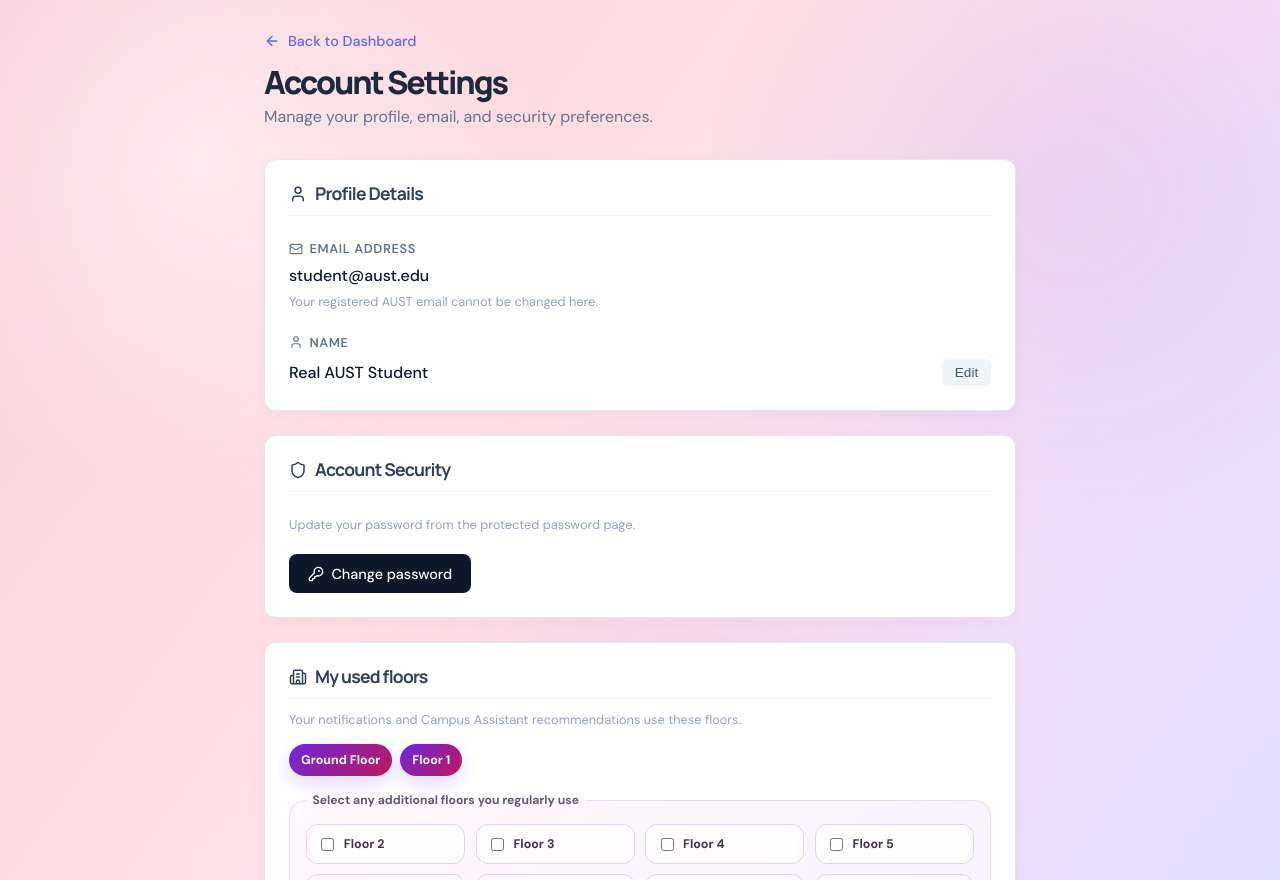
Test: Profile integration › persists a name edit through the API
Expected: the text "Real AUST Student" is shown, [289, 362, 428, 383]
Click the button "Edit" at (966, 373), box [942, 359, 991, 386]
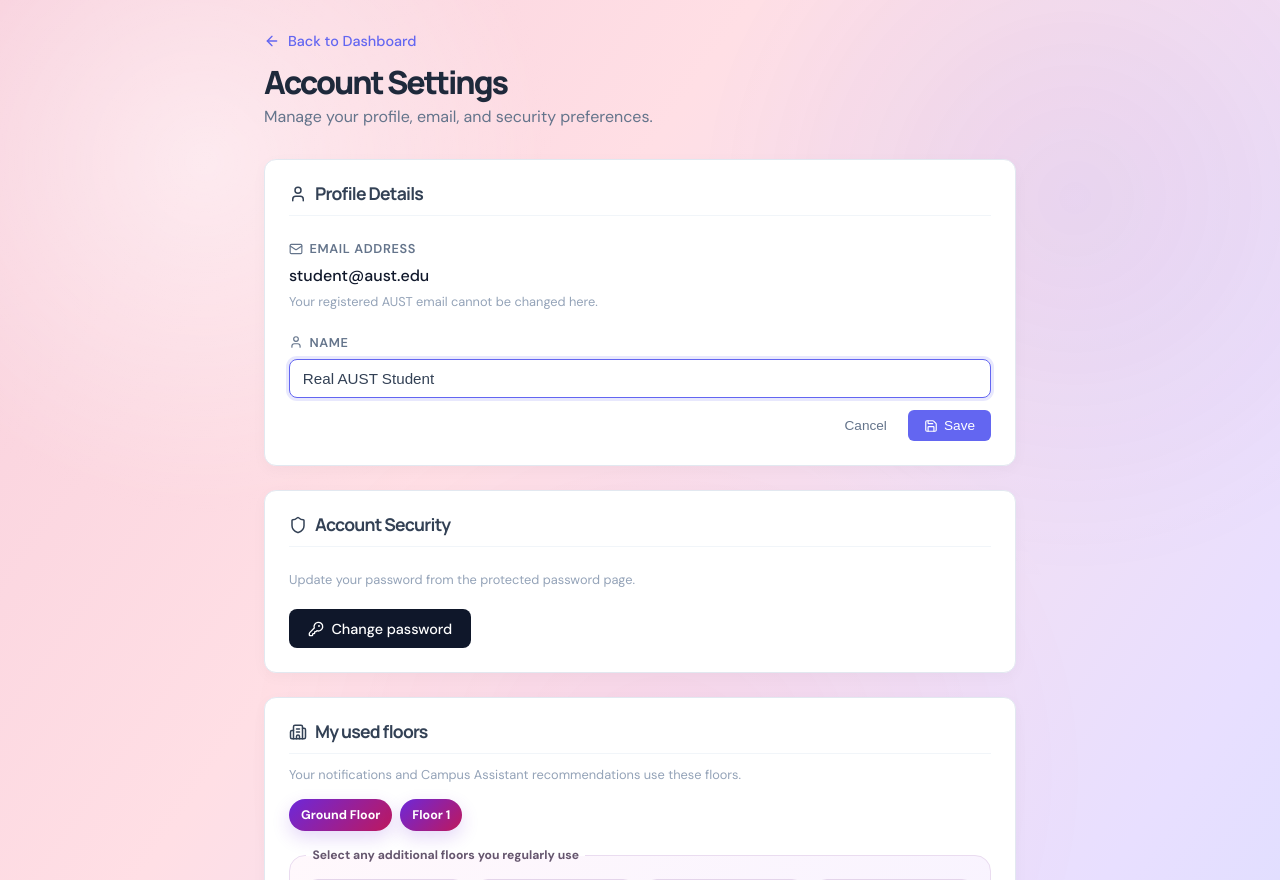
Replace the text in the field labelled "Name" with "  Updated   Student " at (640, 379), box [289, 359, 991, 398]
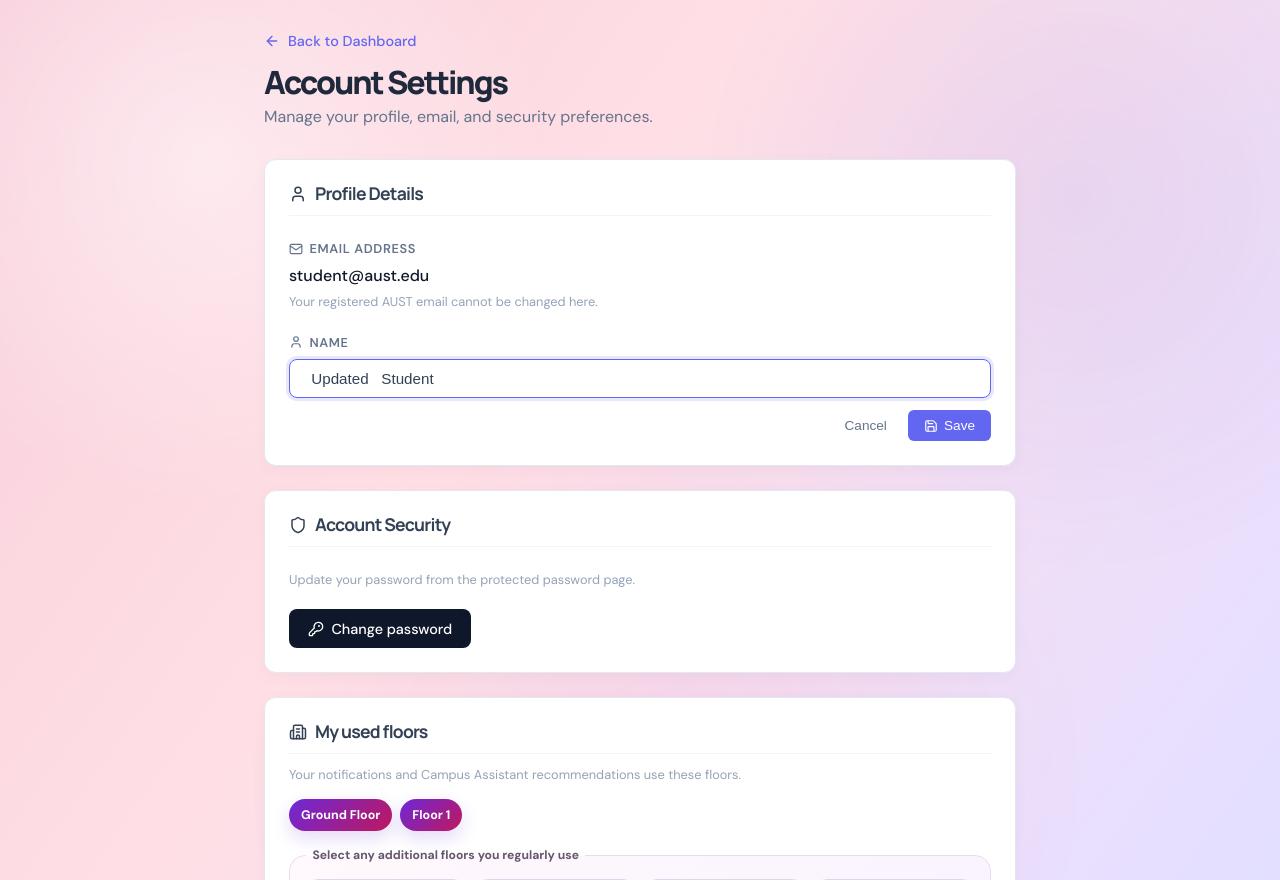
Click the button "Save" at (949, 426), box [908, 410, 991, 442]
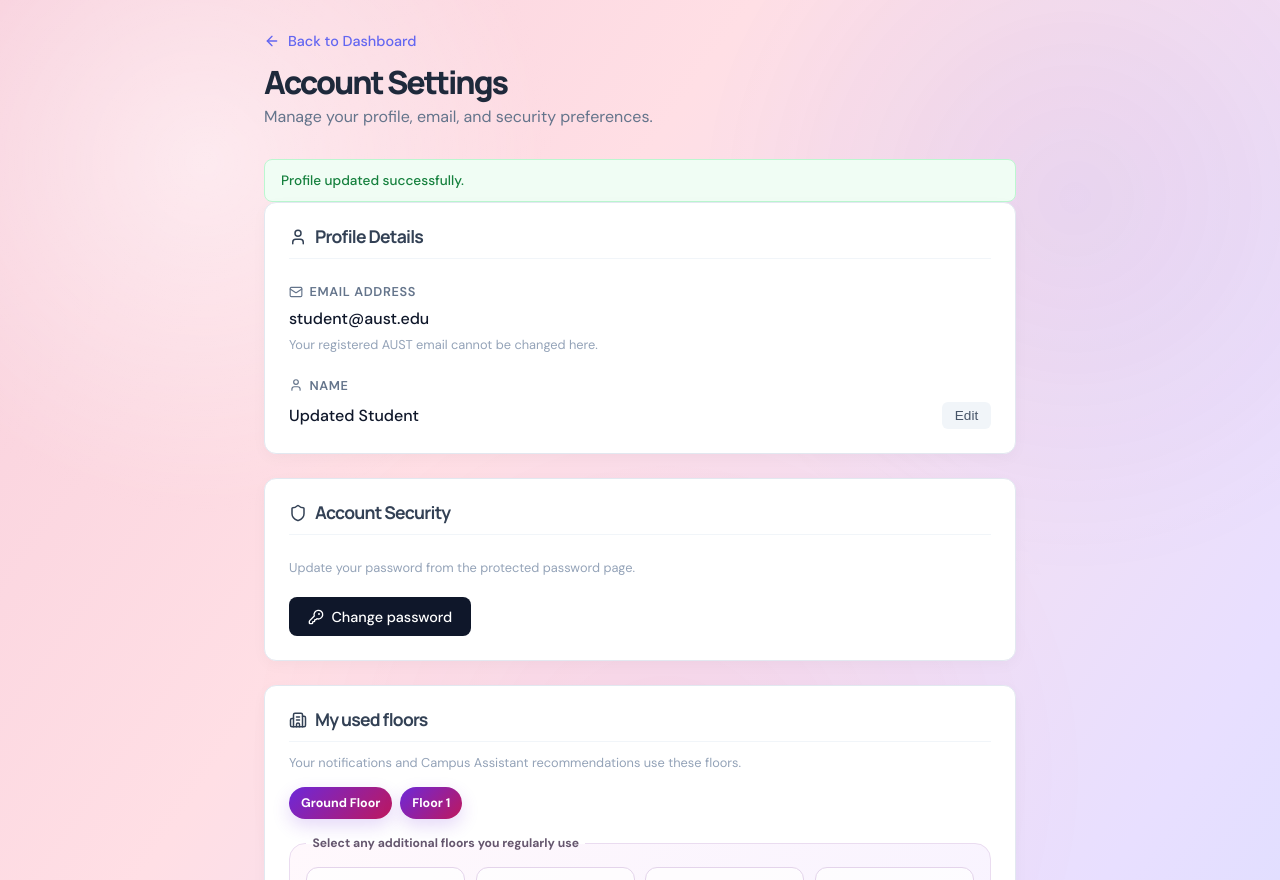
Result: the text "Updated Student" is shown at [289, 405, 419, 426]
